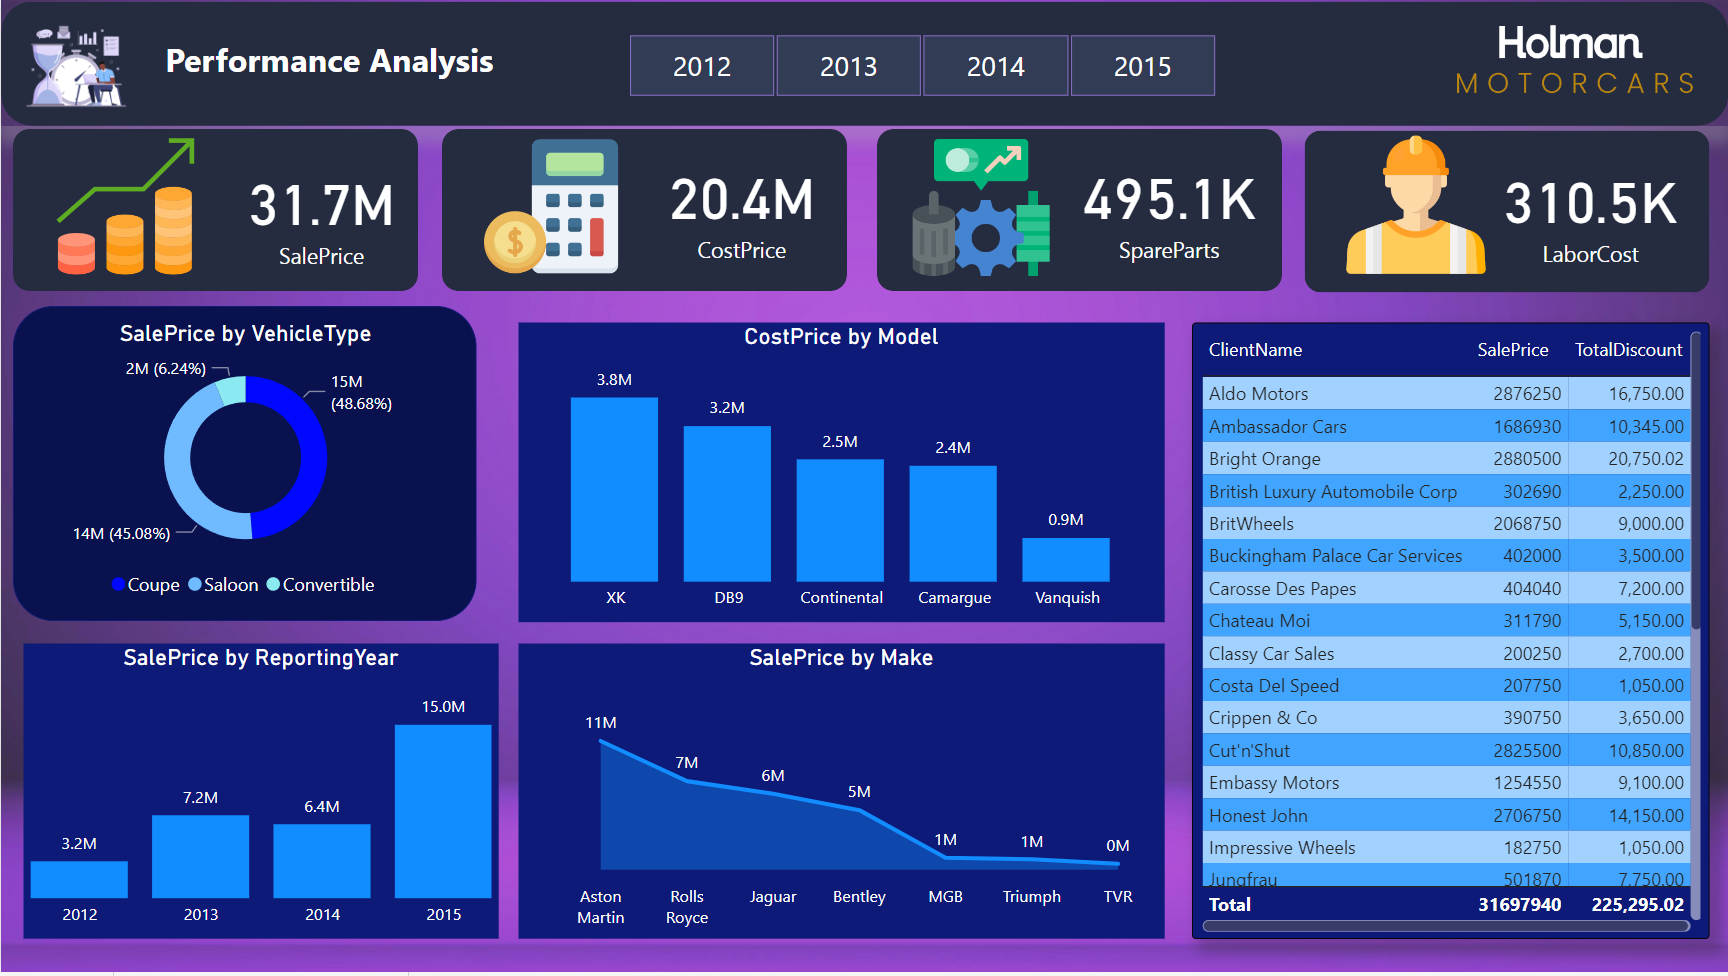

This screenshot's page, from the dashboard's own definition file:
{"tool":"powerbi","page":{"name":"Performance Analysis","canvas":[1280,720],"ordinal":1},"visuals":[{"type":"shape","box":[0,1.6,1279.5,92.2],"z":0},{"type":"textbox","box":[103.6,22.3,308.3,49.3],"z":1000,"group":"g1"},{"type":"slicer","fields":{"Values":["BaseData.ReportingYear"]},"box":[440.5,19.1,483.2,58.8],"z":2000,"group":"g1"},{"type":"shape","box":[8.3,95,300,120],"z":3000},{"type":"shape","box":[326.7,95,300,120],"z":4000},{"type":"shape","box":[648.3,95,300,120],"z":5000},{"type":"shape","box":[965,96.7,300,120],"z":6000},{"type":"card","fields":{"Values":["BaseData.SalePrice"]},"box":[165.3,103.3,143,108.1],"z":7000},{"type":"card","fields":{"Values":["BaseData.CostPrice"]},"box":[477.2,99,143.4,107.9],"z":8000},{"type":"card","fields":{"Values":["BaseData.SpareParts"]},"box":[793.8,99,143.4,107.9],"z":9000},{"type":"card","title":"Total Labor Cost","fields":{"Values":["BaseData.LaborCost"]},"box":[1105,106.7,143.3,98.3],"z":10000},{"type":"image","box":[21.3,96.6,142,112.2],"z":11000},{"type":"image","box":[338,98,139.2,109.3],"z":12000},{"type":"image","box":[991.2,89.5,113.6,123.6],"z":13000},{"type":"image","box":[660.4,92.3,132.1,122.1],"z":14000},{"type":"donutChart","fields":{"Category":["BaseData.VehicleType"],"Y":["BaseData.SalePrice"]},"box":[8.3,226.7,343.3,233.3],"z":15000},{"type":"clusteredColumnChart","fields":{"Y":["BaseData.SalePrice"],"Category":["BaseData.ReportingYear"]},"box":[16.7,476.7,351.7,218.3],"z":16000},{"type":"clusteredColumnChart","fields":{"Category":["BaseData.Model"],"Y":["BaseData.CostPrice"]},"box":[383.3,238.3,478.3,221.7],"z":17000},{"type":"areaChart","fields":{"Category":["BaseData.Make"],"Y":["BaseData.SalePrice"]},"box":[383.3,476.7,478.3,218.3],"z":19000},{"type":"image","box":[7.9,1.6,95.7,95.7],"z":20000,"group":"g1"},{"type":"tableEx","fields":{"Values":["BaseData.ClientName","BaseData.SalePrice","BaseData.TotalDiscount"]},"box":[881.7,238.3,383.3,456.7],"z":21000},{"type":"image","box":[1069.9,11.1,190.7,65.2],"z":22000,"group":"g1"},{"type":"group","id":"g1","title":"Group 1","box":[7.9,1.6,1252.5,95.4],"z":22001}]}

Visuals, with their boxes in screenshot pixels (x1, y1, x2, y2), scaled from the page's 1280x720 canvas onto the 1728x976 screenshot:
shape: 0,2,1727,127
textbox: 140,30,556,97
slicer - BaseData.ReportingYear: 595,26,1247,106
shape: 11,129,416,291
shape: 441,129,846,291
shape: 875,129,1280,291
shape: 1303,131,1708,294
card - BaseData.SalePrice: 223,140,416,287
card - BaseData.CostPrice: 644,134,838,280
card - BaseData.SpareParts: 1072,134,1265,280
"Total Labor Cost" card: 1492,145,1685,278
image: 29,131,220,283
image: 456,133,644,281
image: 1338,121,1491,289
image: 892,125,1070,291
donutChart - BaseData.VehicleType x BaseData.SalePrice: 11,307,475,624
clusteredColumnChart - BaseData.SalePrice x BaseData.ReportingYear: 23,646,497,942
clusteredColumnChart - BaseData.Model x BaseData.CostPrice: 517,323,1163,624
areaChart - BaseData.Make x BaseData.SalePrice: 517,646,1163,942
image: 11,2,140,132
tableEx - BaseData.ClientName x BaseData.SalePrice: 1190,323,1708,942
image: 1444,15,1702,103
"Group 1" group: 11,2,1702,131
